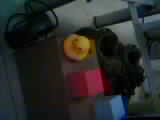duck: (56, 32, 93, 61)
